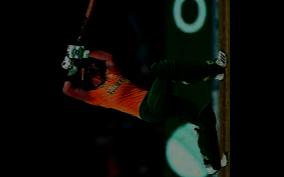batsman: (55, 0, 230, 171)
